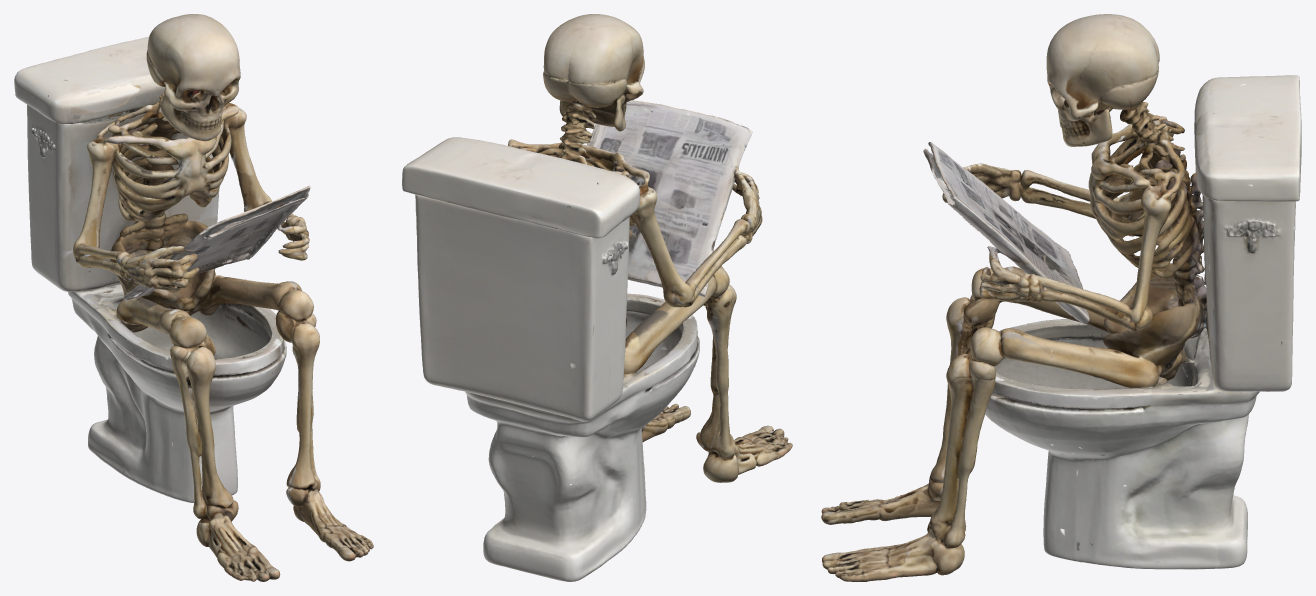
File: toilet.glb
The picture shows the model from 3 angles, left to right: view 1: azimuth 30°, elevation 25°; view 2: azimuth 150°, elevation 25°; view 3: azimuth 270°, elevation 25°; orthographic projection. The views are drawn at different scales.
Size of the model in its own units: 0.9225 by 2 by 1.66.
1 material, 1 textured.
